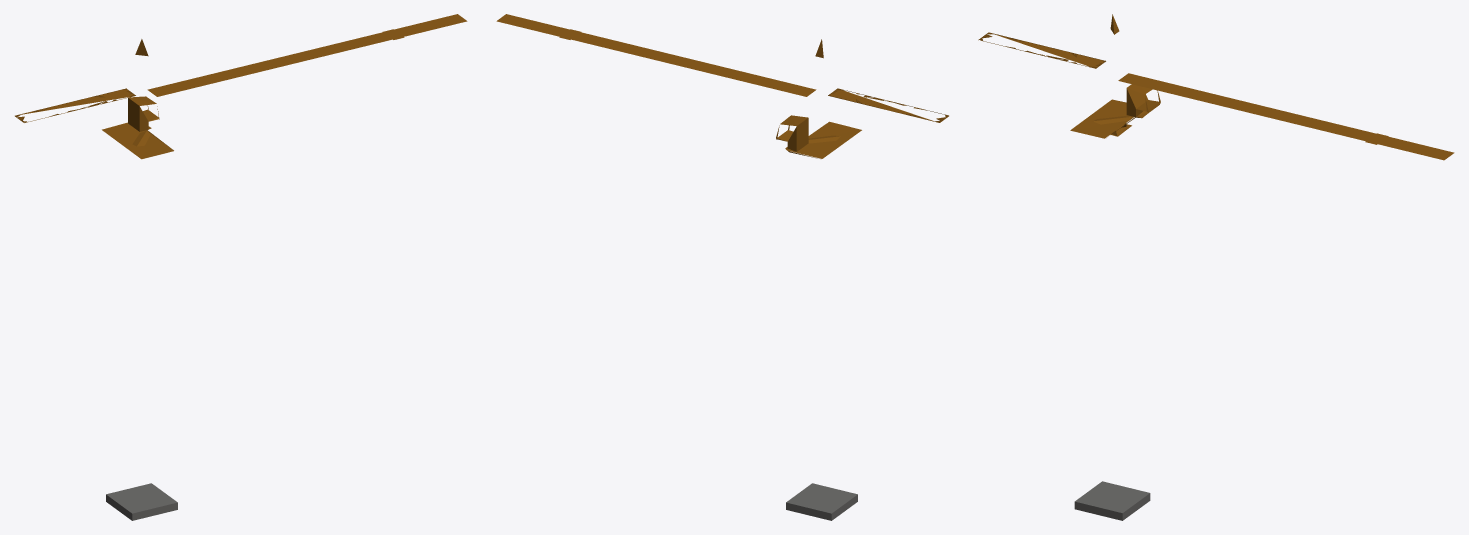
File: tower-crane.zfix-v1.lod2.glb
3 renders of one model, left to right at view 1: azimuth 30°, elevation 25°; view 2: azimuth 150°, elevation 25°; view 3: azimuth 330°, elevation 25°, orthographic. The views are drawn at different scales.
Visible parts, largest first — view 1: Cube.052_UV_0; view 2: Cube.052_UV_0; view 3: Cube.052_UV_0.
Boxes of the visible parts, left/top/right/bottom form: Cube.052_UV_0: left=15, top=14, right=467, bottom=520; Cube.052_UV_0: left=496, top=14, right=948, bottom=520; Cube.052_UV_0: left=978, top=14, right=1454, bottom=520.
Size of the model in its own units: 47.68 by 48 by 7.62.
